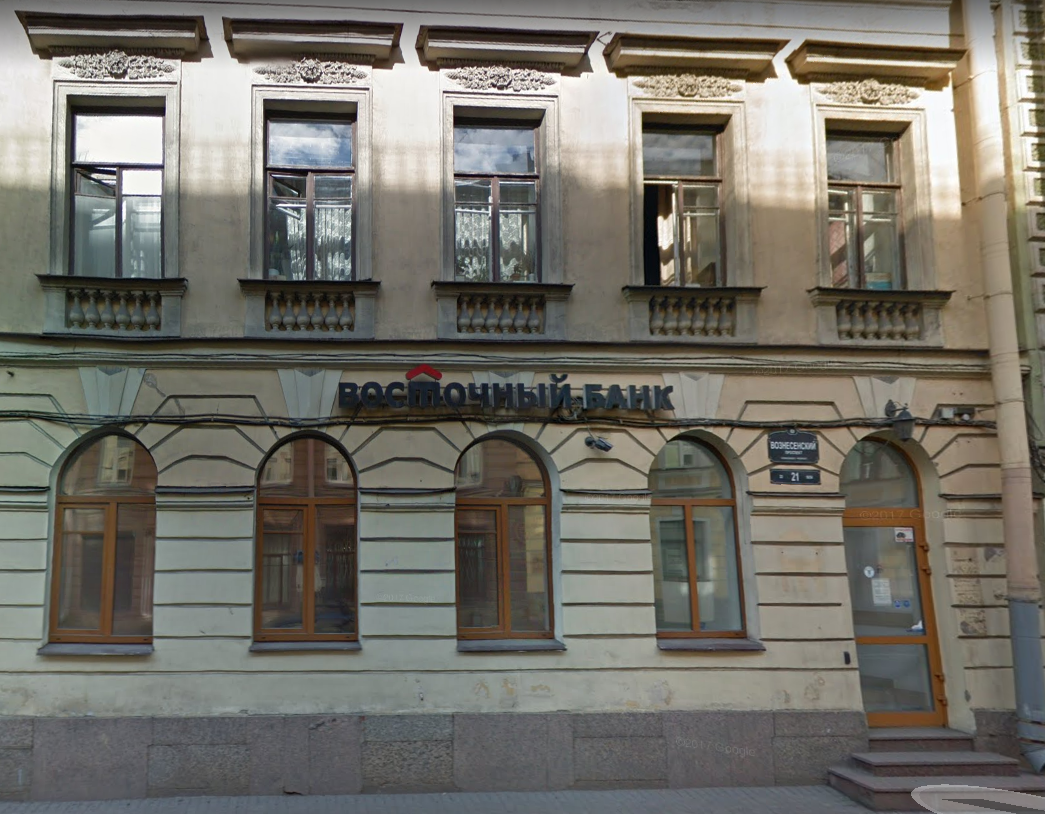door: (844, 521, 947, 730)
signboard: (333, 353, 679, 422)
window: (68, 100, 163, 282), (449, 493, 558, 645), (244, 504, 365, 639), (639, 115, 729, 289), (454, 107, 542, 284), (265, 115, 357, 281), (55, 498, 153, 646), (823, 127, 907, 291), (652, 503, 741, 637)
